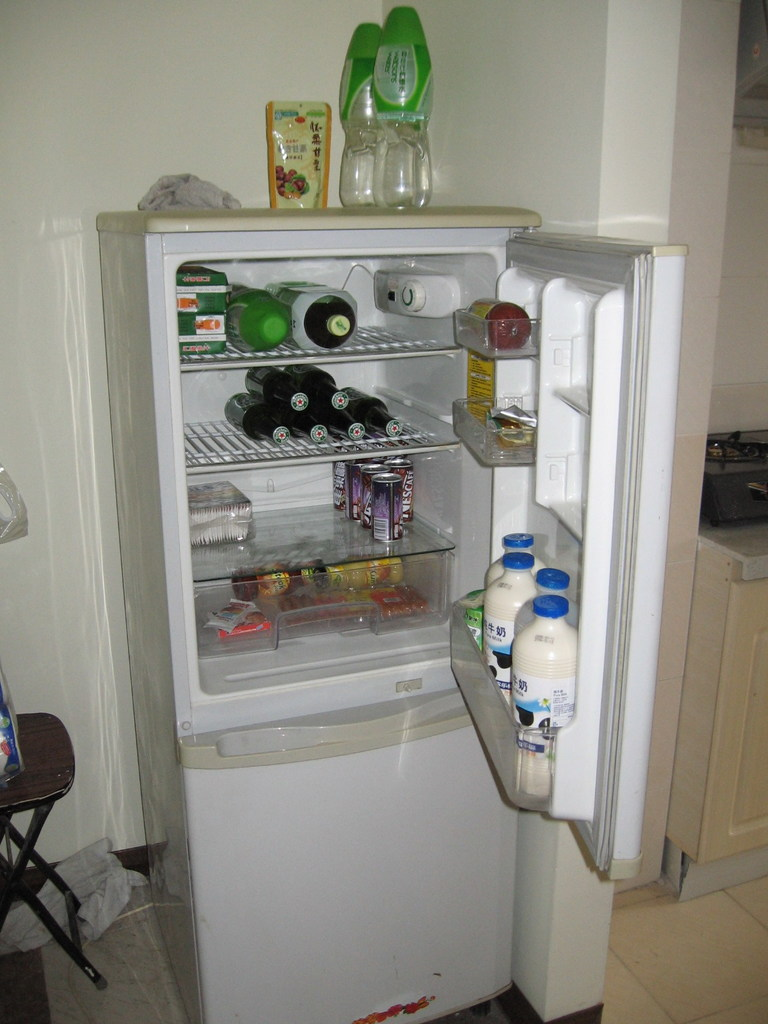cabinet door: (725, 609, 768, 832)
handle: (229, 717, 467, 744)
refrigerator door: (229, 772, 518, 1017), (514, 267, 637, 809)
